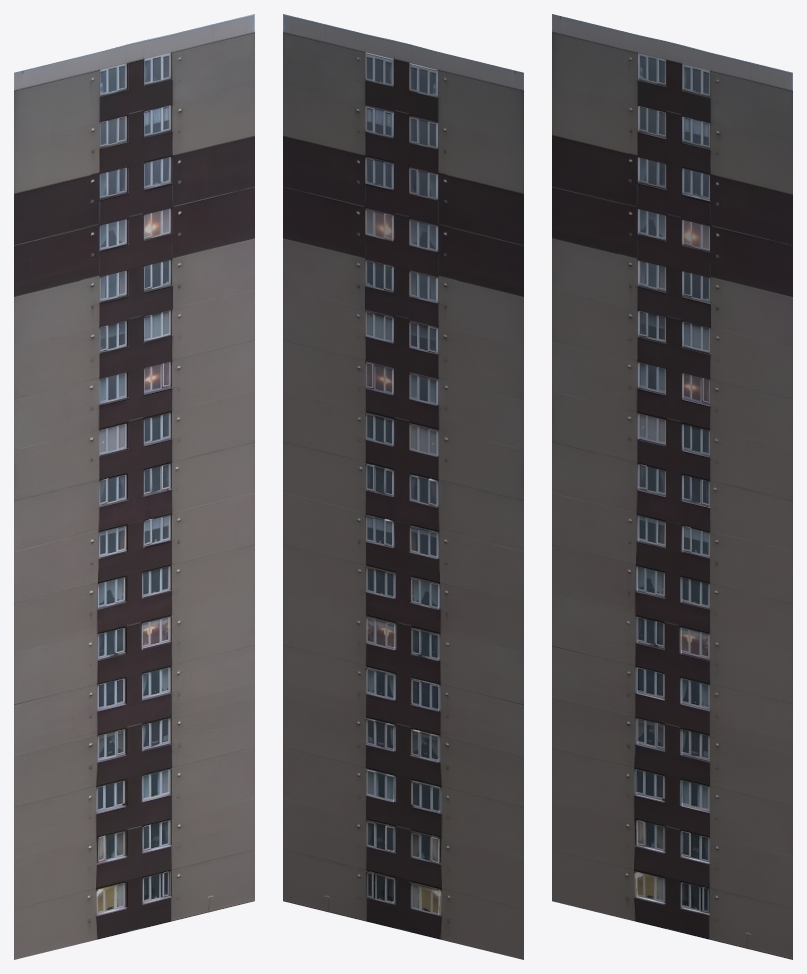
File: apartments2_side.obj
3 views of the same model, side by side, from view 1: azimuth 30°, elevation 25°; view 2: azimuth 150°, elevation 25°; view 3: azimuth 330°, elevation 25° (orthographic).
Visible parts, largest first — view 1: apartments2_side; view 2: apartments2_side; view 3: apartments2_side.
Boxes of the visible parts, x1,y1,x2,y2 form: apartments2_side: (14, 14, 254, 959); apartments2_side: (283, 14, 523, 959); apartments2_side: (552, 14, 792, 959).
Bounding box in the file's own units: 1.42 × 5 × 0.00981.
